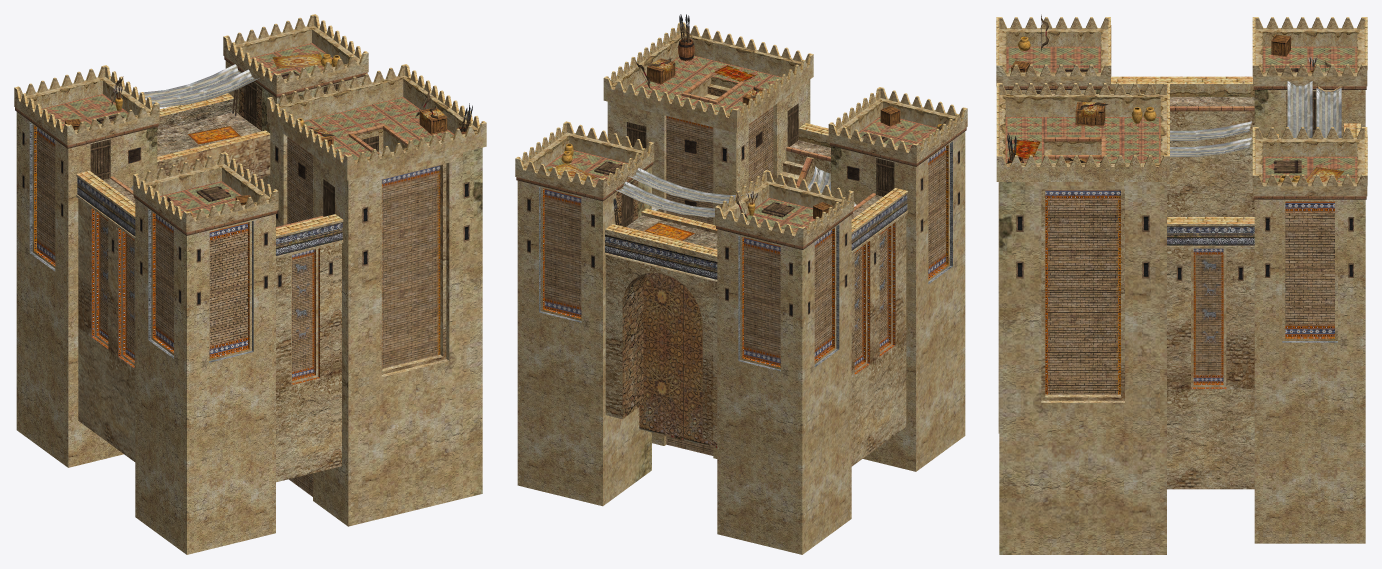
Rendered from pers_fortress_b.glb.
3 renders of one model, left to right at view 1: azimuth 30°, elevation 25°; view 2: azimuth 150°, elevation 25°; view 3: azimuth 270°, elevation 25°, orthographic. The views are drawn at different scales.
Bounding box in the file's own units: 23.83 × 29.22 × 23.59.
Materials: 1 (1 with a texture image).
